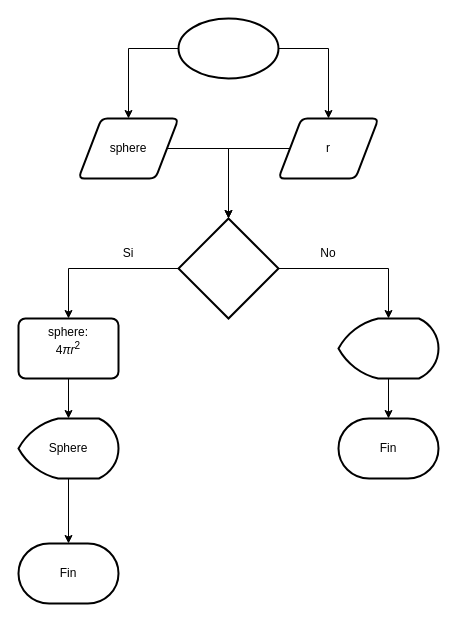
Some shapes in this 456 by 621 pixel diagram are drawn without their labels. The shapes that lost their labels are listed below. From the top down, each one's centre as x and y in pixels, then its label:
point (228, 48): Inicio
point (228, 268): r >= 0
point (388, 348): "Radius cannot be negative"
